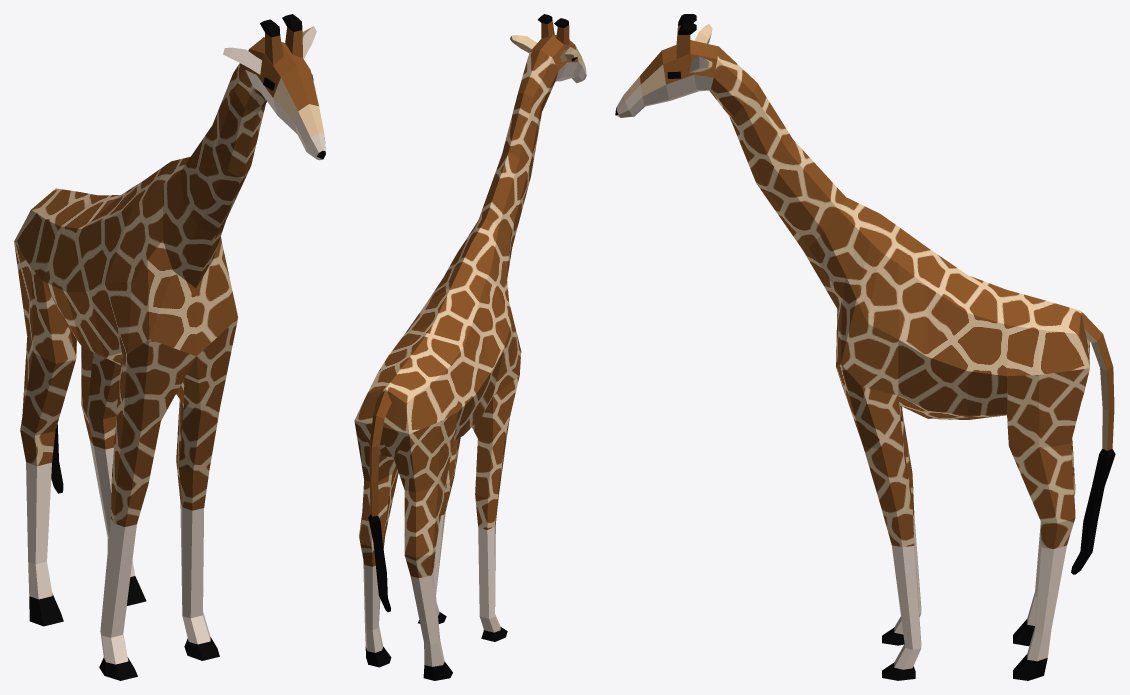
File: Mesh_Giraffe.gltf
The picture shows the model from 3 angles, left to right: view 1: azimuth 30°, elevation 25°; view 2: azimuth 150°, elevation 25°; view 3: azimuth 270°, elevation 25°; orthographic projection. The views are drawn at different scales.
Parts seen in each view (by area): view 1: node-0; view 2: node-0; view 3: node-0.
Part boxes in pixels (left/top/right/bottom): node-0: left=14, top=14, right=325, bottom=680; node-0: left=354, top=14, right=586, bottom=680; node-0: left=615, top=14, right=1115, bottom=680.
Bounding box in the file's own units: 58.77 × 362 × 258.
1 material, 1 textured.
